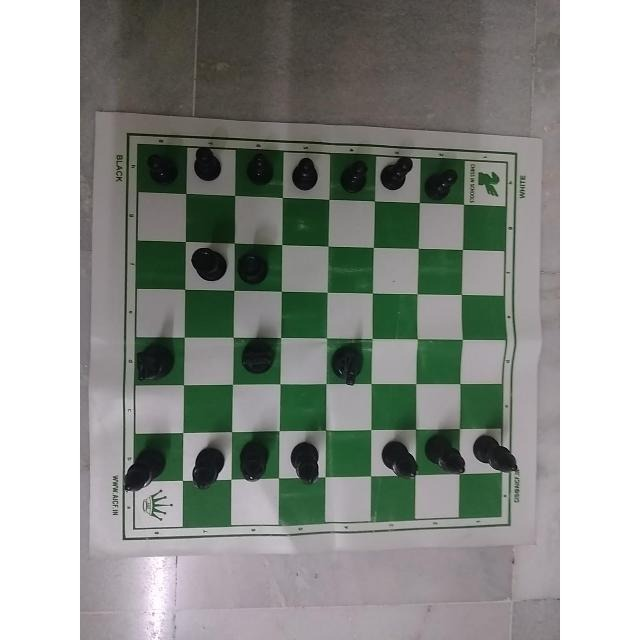black-bishop: (107, 440, 174, 500), (473, 430, 525, 482), (185, 440, 229, 491), (425, 436, 469, 484), (238, 435, 276, 490), (287, 436, 323, 491), (376, 437, 419, 483)
black-knight: (125, 336, 185, 388), (322, 339, 377, 391), (233, 335, 283, 383)
black-pawn: (422, 150, 472, 201), (136, 138, 183, 190), (236, 137, 283, 189), (380, 143, 418, 200), (331, 143, 374, 193), (285, 151, 326, 202), (193, 139, 229, 190)
black-rook: (238, 237, 286, 291), (182, 239, 233, 287)
